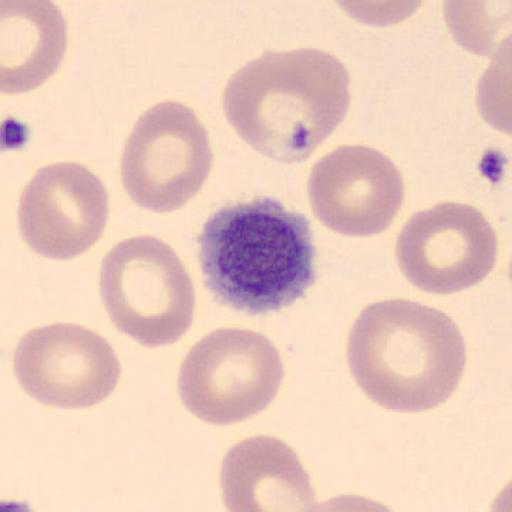Platelet: (193, 193, 322, 319)
RBC: (220, 46, 353, 166), (344, 296, 468, 416), (97, 233, 197, 351), (175, 324, 286, 428), (118, 99, 215, 216), (220, 48, 312, 162), (394, 198, 499, 297), (11, 320, 123, 412), (15, 159, 110, 263), (305, 142, 406, 239), (218, 432, 317, 512), (1, 0, 69, 96), (475, 32, 512, 140), (441, 1, 512, 57), (329, 0, 430, 28), (290, 491, 414, 512), (489, 475, 512, 511)
